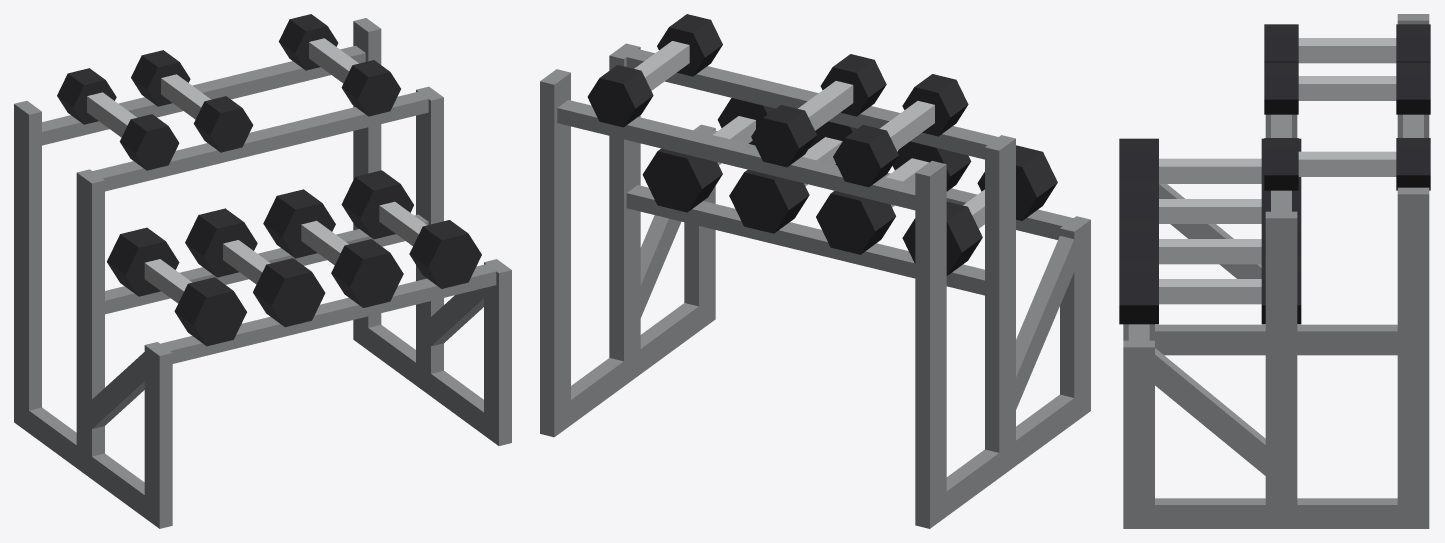
Rendered from FN_Rack_Dumbbell.glb.
3 views of the same model, side by side, from view 1: azimuth 30°, elevation 25°; view 2: azimuth 150°, elevation 25°; view 3: azimuth 270°, elevation 25° (orthographic). The views are drawn at different scales.
Visible parts, largest first — view 1: FN_Rack_Dumbbell; view 2: FN_Rack_Dumbbell; view 3: FN_Rack_Dumbbell.
Part boxes in pixels (left/top/right/bottom): FN_Rack_Dumbbell: left=14, top=14, right=511, bottom=528; FN_Rack_Dumbbell: left=540, top=14, right=1090, bottom=528; FN_Rack_Dumbbell: left=1119, top=14, right=1430, bottom=528.
Bounding box in the file's own units: 0.81 × 0.7366 × 0.59.
1 material, 1 textured.
